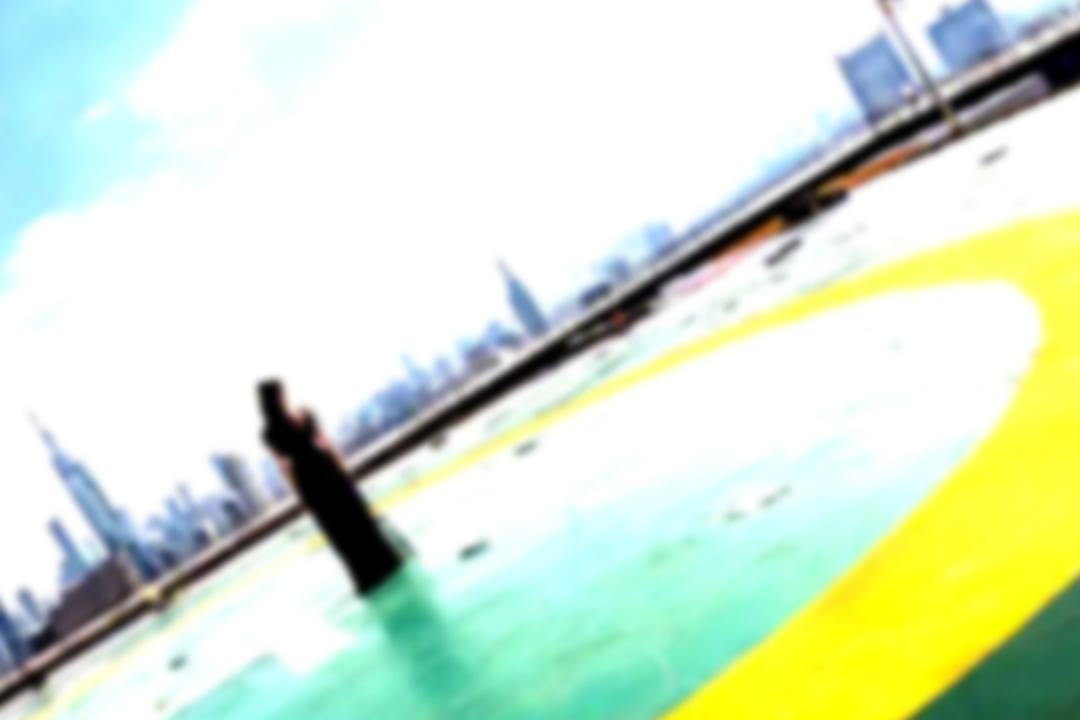Apron: (2, 199, 1078, 720)
